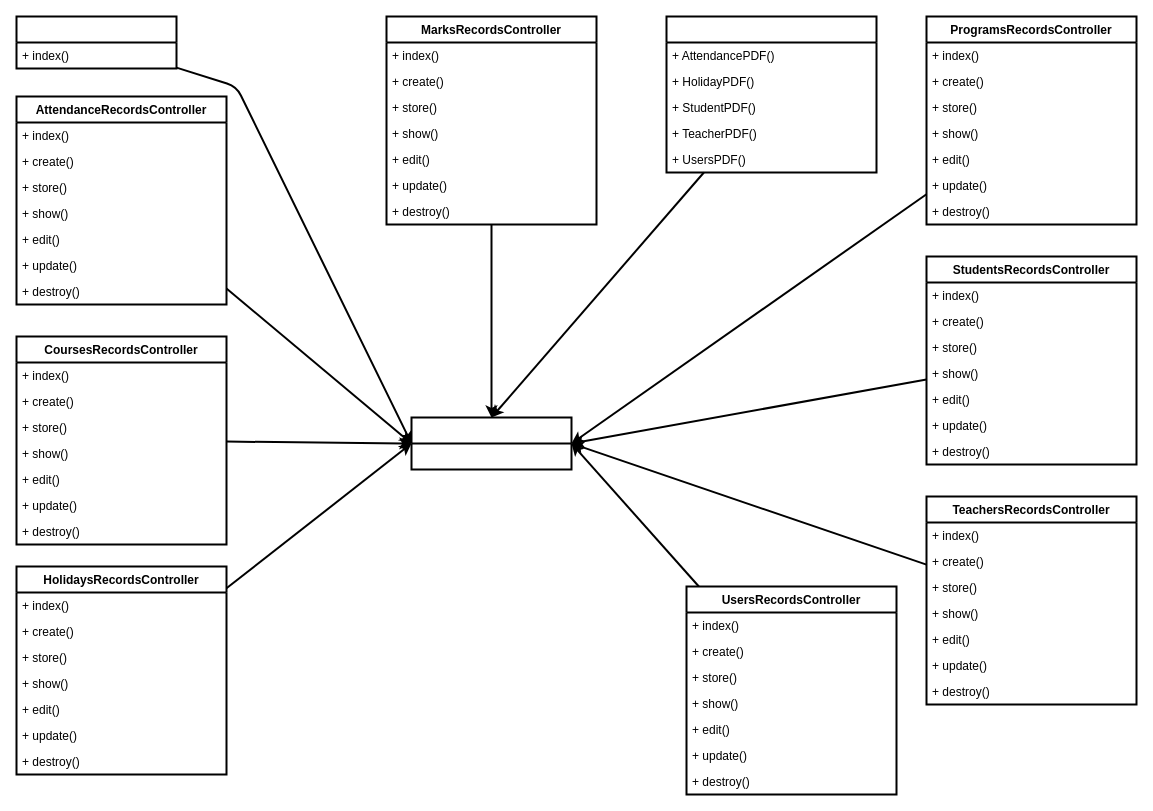
Image size: 1153x811. Some labels were removed from this diagram. Here are the shapes that lost their labels. From the top down, the box of each, then its label:
(15, 15, 177, 69): AdminController
(665, 15, 877, 173): PDFController
(410, 416, 572, 470): Controller
